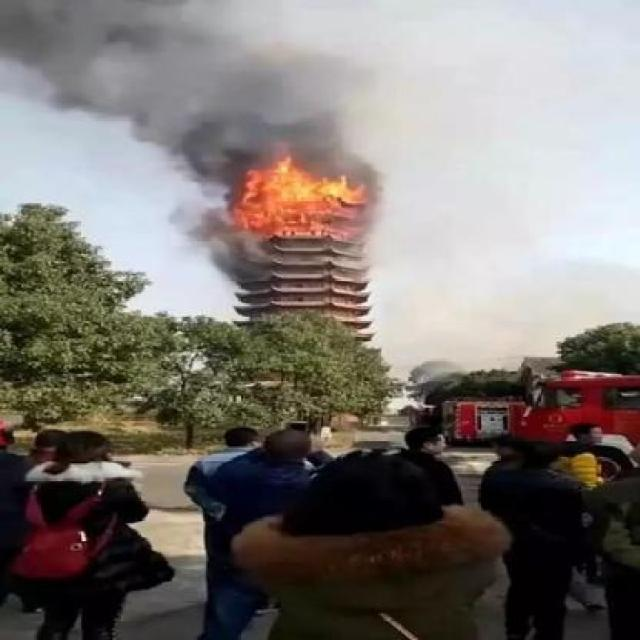Fire: (237, 158, 373, 240)
Smoke: (2, 5, 360, 156)
